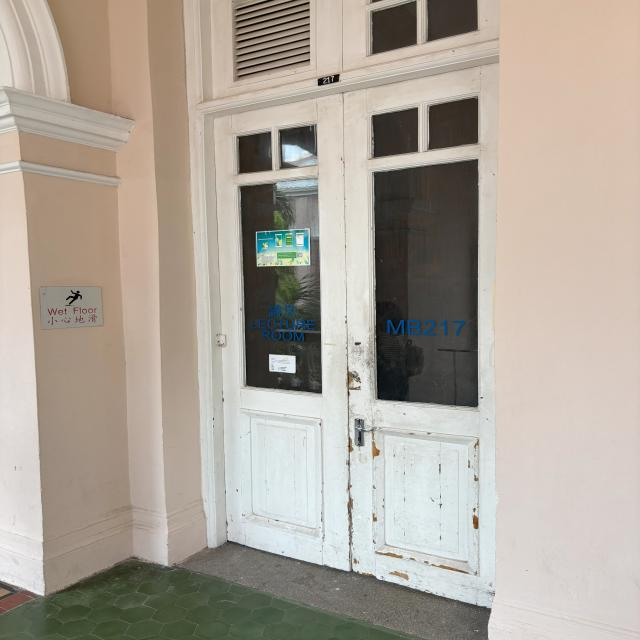MB217_roomNumber: (313, 72, 343, 87)
MB217_wordsOnWindow: (384, 315, 468, 339)
